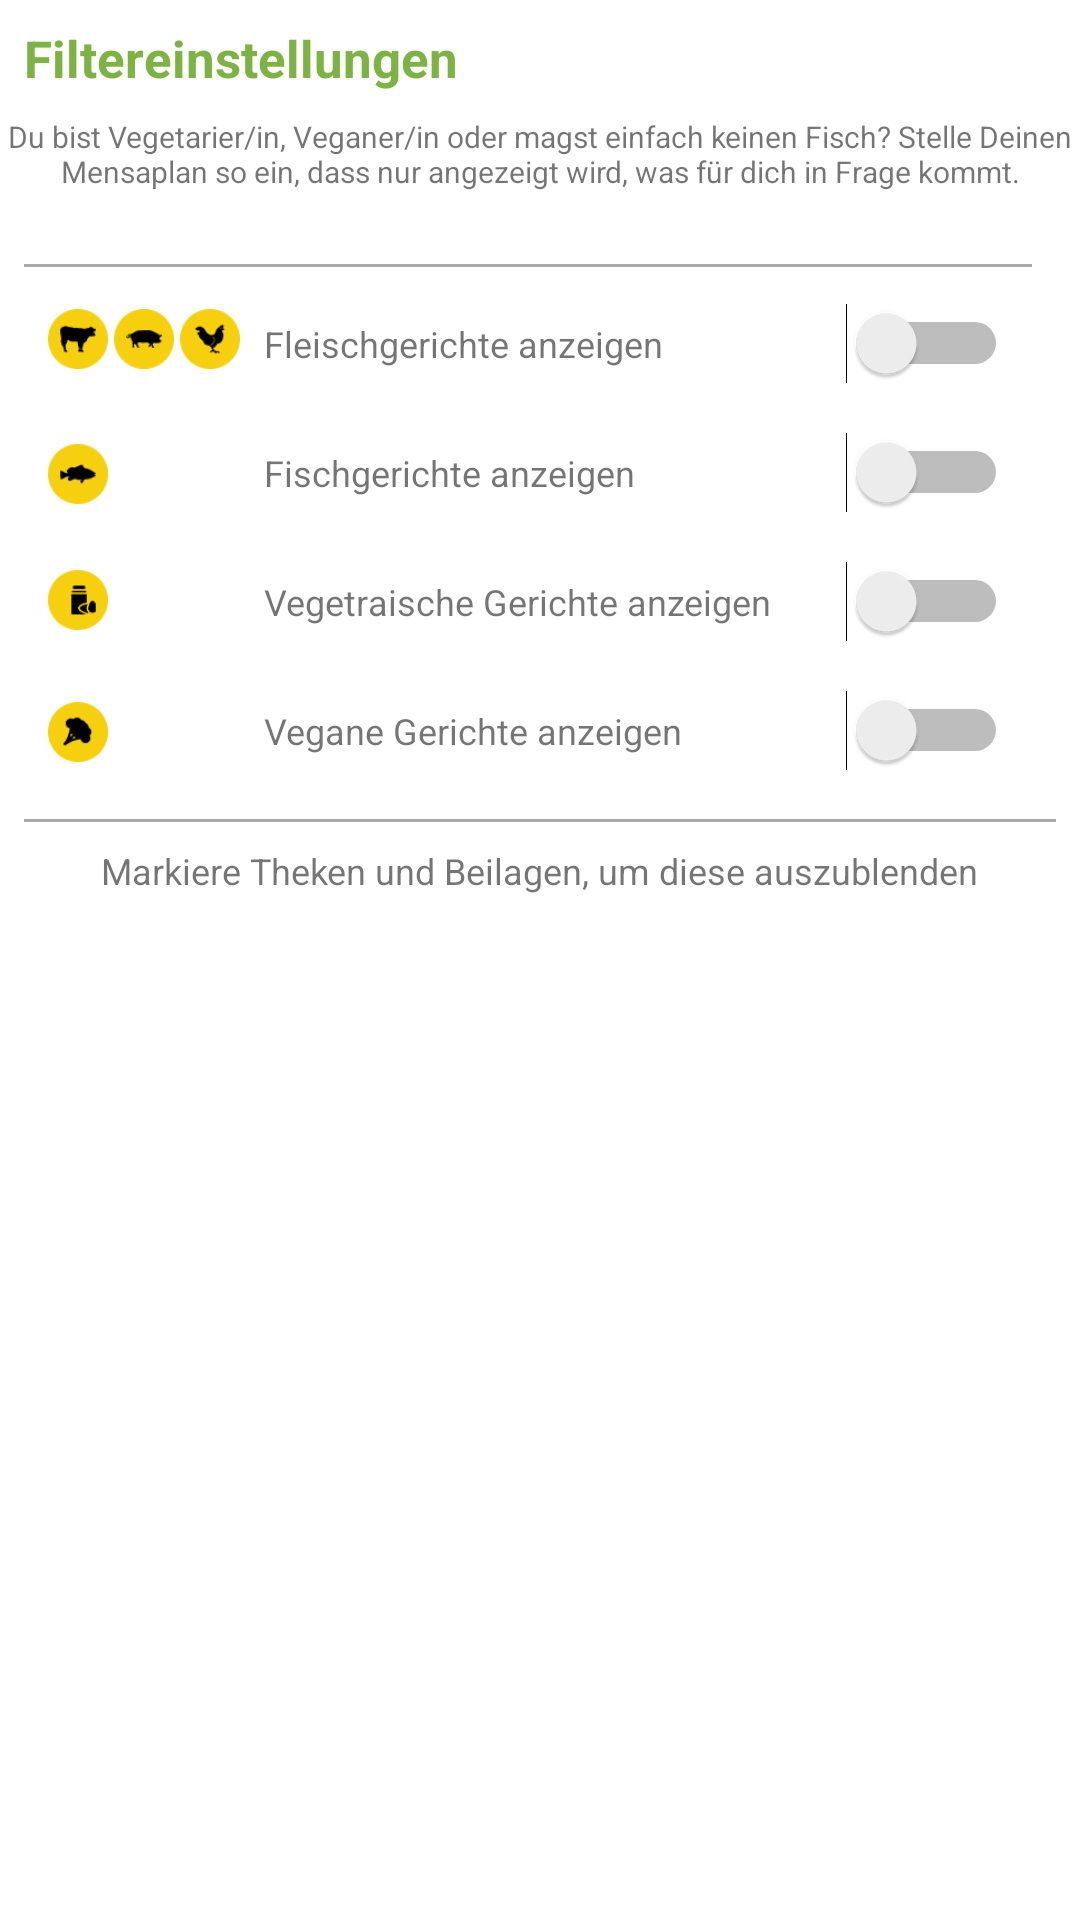

Screen size 1080px x 1920px. Icon name, then its center in pixels as (x=x, y=y):
beef: (x=78, y=339)
chicken: (x=210, y=339)
fish: (x=78, y=474)
pig: (x=144, y=339)
vegan: (x=78, y=732)
veggie: (x=78, y=600)
